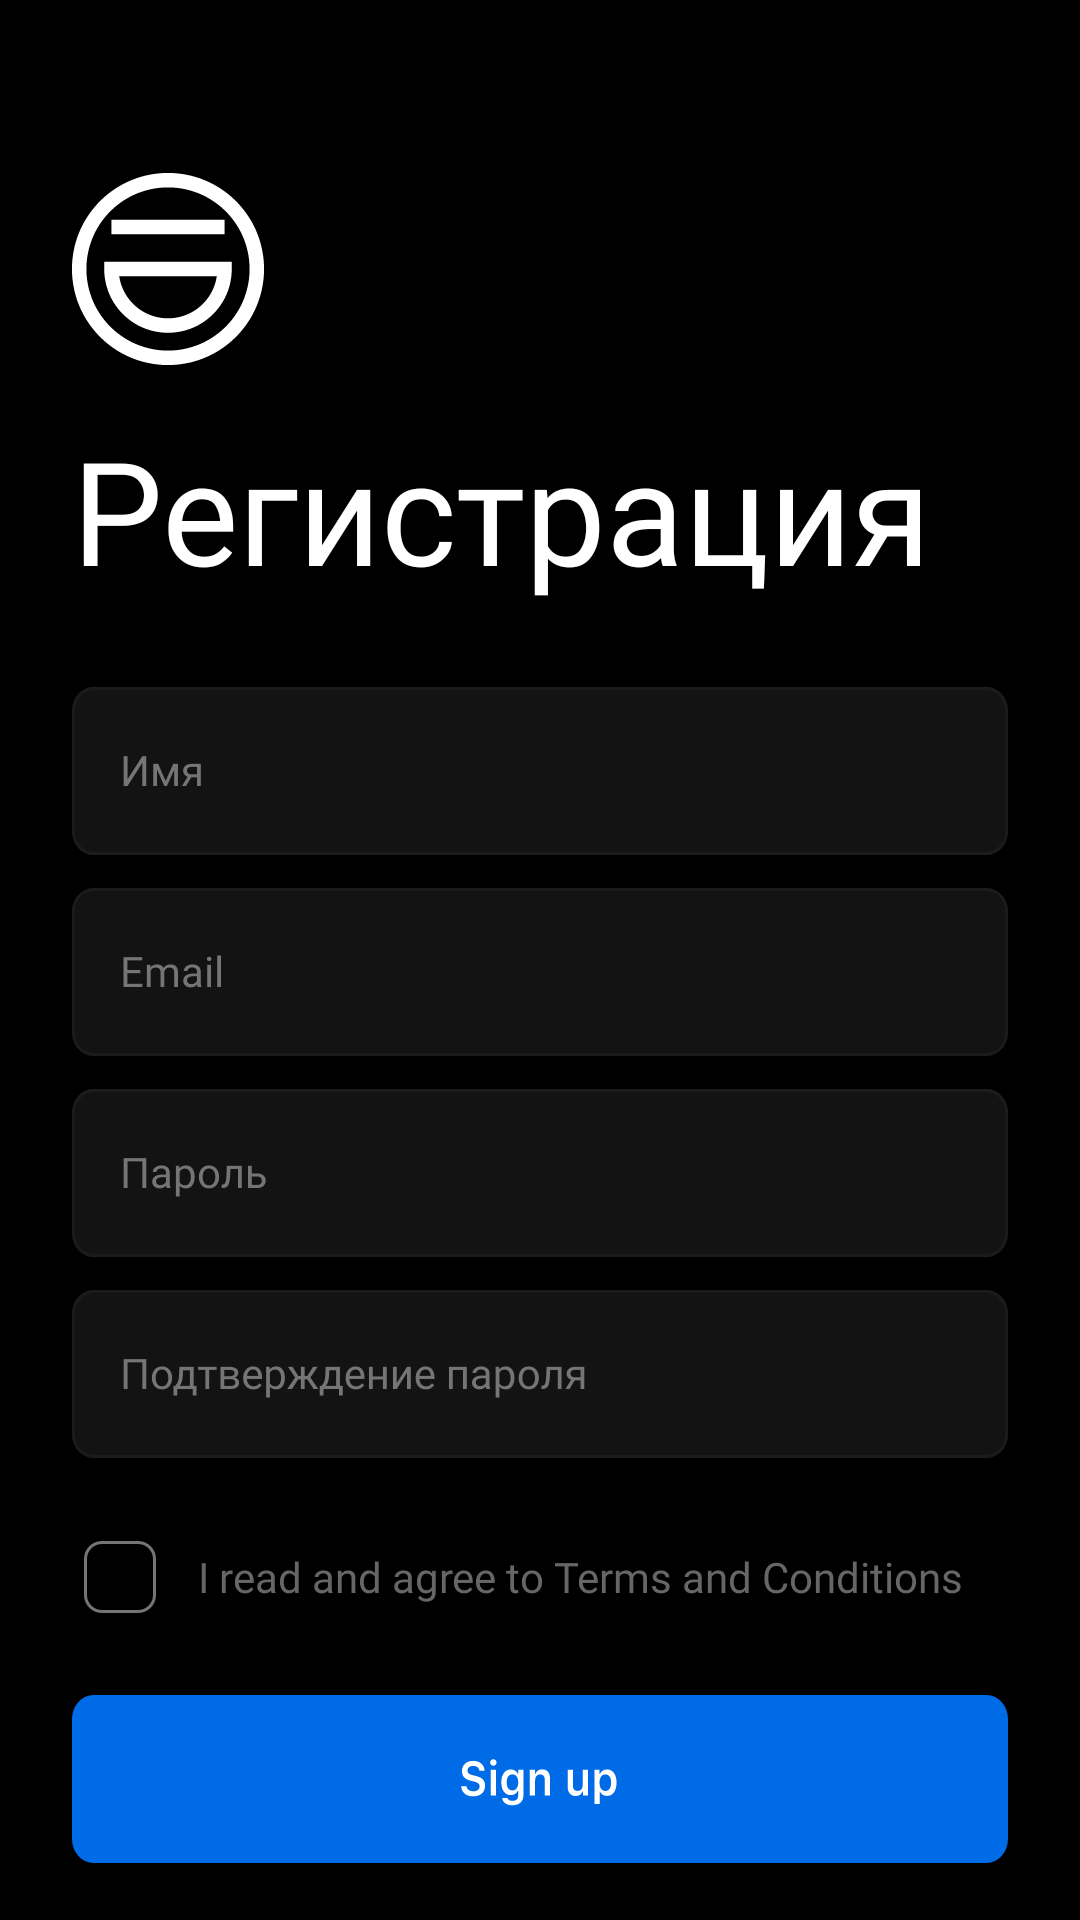

Point at icon controls on the screen. Image size 1080 x 1920, points as point (x, y).
check box: point (120, 1577)
